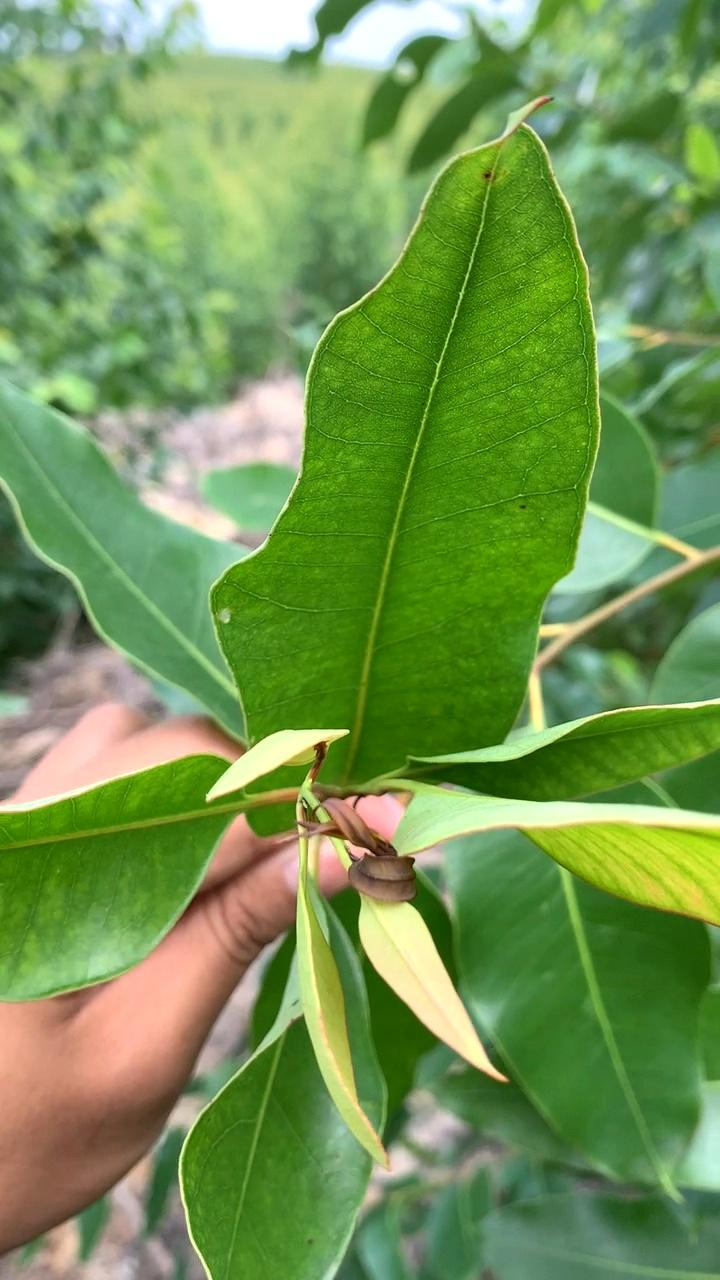Helopeltis-Withered Sprout: (313, 796, 418, 905)
